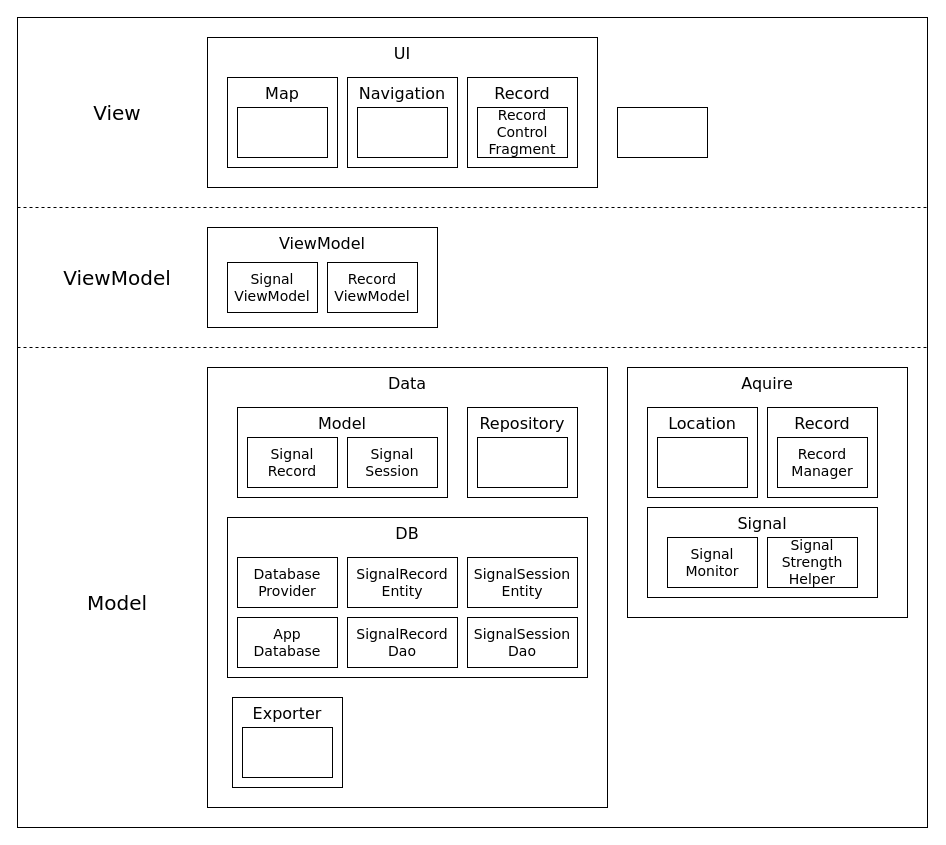
The diagram is 946 pixels wide and 845 high, and some of its shapes have lost their labels. The centre of each missing label's shape, as x and y in pixels:
Bottom NavBar: the point at 402,132
Csv Exporter: the point at 287,752
Location Tracker: the point at 702,462
Main Activity: the point at 662,132
Map Visualizer: the point at 282,132
Signal Repository: the point at 522,462
